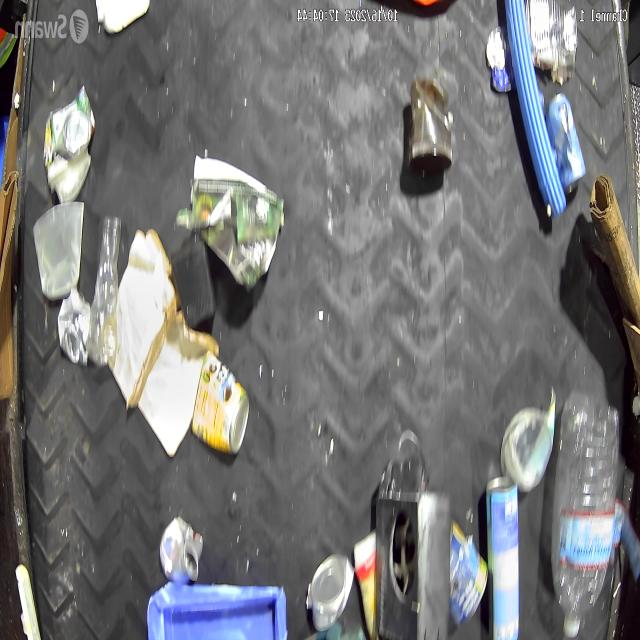can: (186, 351, 250, 454), (485, 474, 520, 640), (51, 85, 95, 159), (312, 550, 354, 626), (56, 288, 92, 366)
plastic_bottle: (545, 397, 616, 640)
